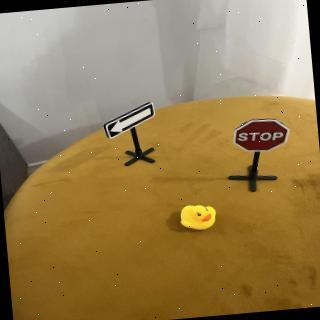duck_regular: (179, 203, 220, 234)
sign_oneway_left: (103, 100, 159, 141)
sign_stop: (232, 116, 293, 157)
